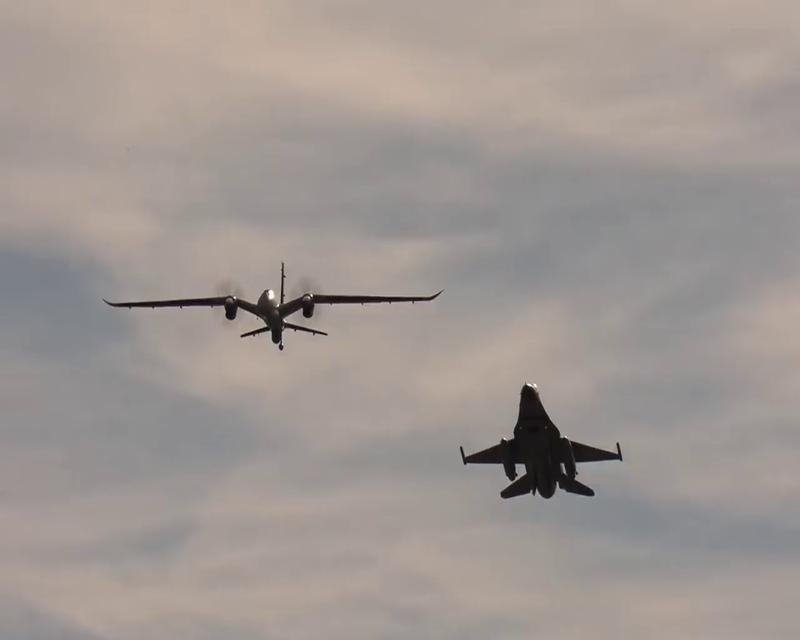UAV: (103, 261, 445, 351), (458, 382, 624, 501)
